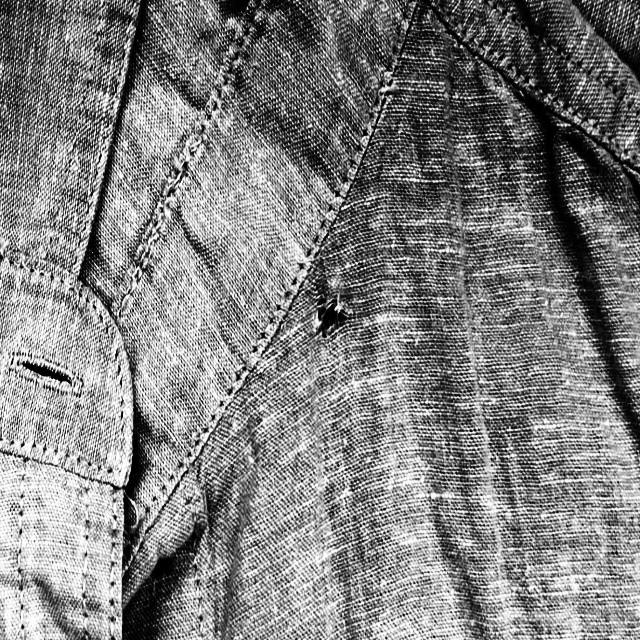Hole: (304, 289, 354, 340)
